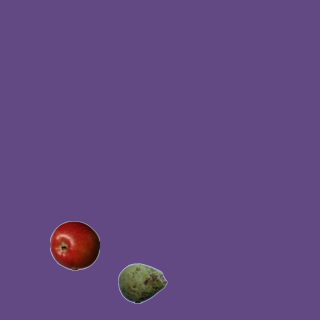Apple Braeburn: (49, 220, 99, 270)
Pear Stone: (117, 258, 167, 308)
